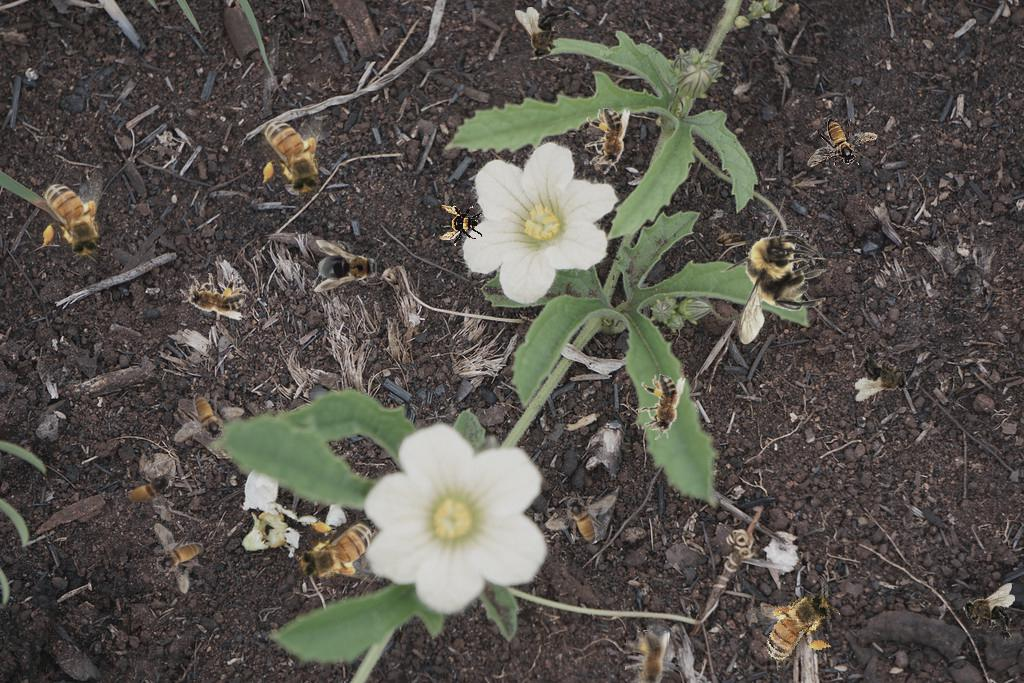Bee: (720, 230, 827, 345), (740, 580, 850, 673), (292, 518, 385, 586), (259, 108, 327, 201), (39, 171, 107, 264), (852, 339, 915, 409), (123, 451, 175, 524), (178, 270, 248, 321), (153, 523, 203, 594), (545, 494, 616, 544), (174, 393, 245, 443), (807, 118, 878, 168), (314, 240, 382, 292), (636, 373, 686, 442), (962, 583, 1015, 645), (515, 7, 577, 60), (585, 108, 630, 174), (625, 630, 670, 683), (439, 203, 483, 247)
